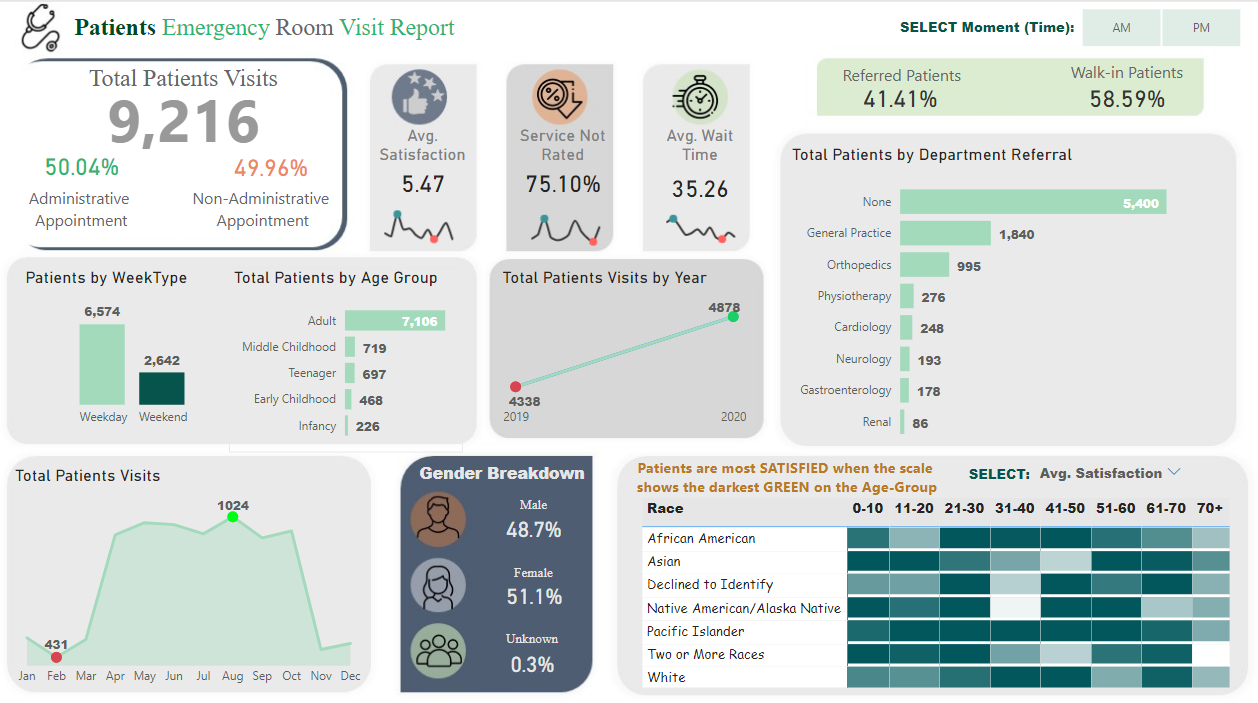

Layout of this report page (visuals, bound fields, positions):
{"tool":"powerbi","page":{"name":"Page 1","canvas":[1280,720],"ordinal":0},"visuals":[{"type":"card","fields":{"Values":["Calculations.Total Patients"]},"box":[37.9,63.7,298.8,103.1],"z":0},{"type":"card","fields":{"Values":["Calculations.% Administrative Schedule"]},"box":[33.4,144.1,101.6,42.5],"z":1000},{"type":"card","fields":{"Values":["Calculations.% None - Administrative Schedule"]},"box":[227.5,144.1,97.1,45.5],"z":2000},{"type":"card","title":"Service Not Rated","fields":{"Values":["Calculations.% that didn't rate us"]},"box":[509.6,124.4,122.8,77.3],"z":3000},{"type":"pivotTable","fields":{"Rows":["Patients Dataset.Race"],"Columns":["Patients Dataset.Age Bucket"],"Values":["Parameter.Selected Measure Value"]},"box":[646.1,495.9,621.8,204.7],"z":4000},{"type":"slicer","fields":{"Values":["Parameter.Parameter"]},"box":[1037.3,450.4,174.4,42.5],"z":5000},{"type":"barChart","fields":{"Category":["Patients Dataset.Age Group"],"Y":["Calculations.Total Patients"]},"box":[233.6,268.4,236.6,186.5],"z":6000},{"type":"areaChart","title":"Total Patients Visits","fields":{"Category":["Date.Month"],"Y":["Calculations.Total Patients","Calculations.Values Max Point (Month)"]},"box":[12.1,468.6,360.9,232],"z":7000},{"type":"slicer","fields":{"Values":["Patients Dataset.Moment"]},"box":[1070.7,0,209.3,51.6],"z":8000},{"type":"lineChart","title":"Total Patients Visits by Year","fields":{"Y":["Calculations.Total Patients","Calculations.Values Max Point (Year)"],"Category":["Date.Year"]},"box":[505,268.4,256.3,169.9],"z":9000},{"type":"clusteredBarChart","fields":{"Y":["Calculations.Total Patients"],"Category":["Patients Dataset.Department Referral"]},"box":[797.7,144.1,430.7,310.9],"z":10000},{"type":"card","fields":{"Values":["Parameter.Selected Measure Description"]},"box":[627.9,443.9,339.7,71.3],"z":11000},{"type":"clusteredColumnChart","title":"Patients  by WeekType","fields":{"Y":["Calculations.Total Patients"],"Category":["Date.WeekType"]},"box":[22.7,268.4,227.5,169.9],"z":12000},{"type":"textbox","box":[0,182,168.3,60.7],"z":13000},{"type":"textbox","box":[183.5,182,168.3,60.7],"z":14000},{"type":"card","title":"Avg. Satisfaction","fields":{"Values":["Calculations.Average Satisfaction Score"]},"box":[373.1,124.4,112.2,77.3],"z":15000},{"type":"card","title":"Avg. Wait Time","fields":{"Values":["Calculations.Average Wait Time"]},"box":[653.6,124.4,112.2,88],"z":16000},{"type":"card","fields":{"Values":["Calculations.% Referred Patients"]},"box":[845.2,75.3,135,42.5],"z":17000},{"type":"card","fields":{"Values":["Calculations.% Un Referred Patients"]},"box":[1071.2,72.3,141,48.5],"z":18000},{"type":"textbox","box":[826.5,57.6,174.4,42.5],"z":19000},{"type":"textbox","box":[1054,54.6,174.4,42.5],"z":20000},{"type":"card","fields":{"Values":["Calculations.% Female Visit"]},"box":[481.8,512.1,118.3,40.9],"z":21000},{"type":"card","fields":{"Values":["Calculations.% Male Visit"]},"box":[482.3,580.3,118.3,39.4],"z":22000},{"type":"card","fields":{"Values":["Calculations.% Unknown Visit"]},"box":[480.8,649.1,118.3,40.9],"z":23000},{"type":"textbox","box":[62.2,57.6,250.2,60.7],"z":24000},{"type":"PBI_CV_25997FEB_F466_44FA_B562_AC4063283C4C","fields":{"measure":["Calculations.Average Satisfaction Score"],"axis":["Date.Month"]},"box":[373.1,197.2,107.7,53.1],"z":25000},{"type":"PBI_CV_25997FEB_F466_44FA_B562_AC4063283C4C","fields":{"axis":["Date.Month"],"measure":["Calculations.% No Rating"]},"box":[521.7,201.7,107.7,51.6],"z":26000},{"type":"PBI_CV_25997FEB_F466_44FA_B562_AC4063283C4C","fields":{"axis":["Date.Month"],"measure":["Calculations.Average Wait Time"]},"box":[658.2,201.7,107.7,48.5],"z":27000},{"type":"textbox","box":[417.1,459.5,185,53.1],"z":28000},{"type":"textbox","box":[493.9,492.4,94,40.9],"z":29000},{"type":"textbox","box":[494.4,561.1,94,40.9],"z":30000},{"type":"textbox","box":[492.9,627.9,94,40.9],"z":31000},{"type":"textbox","box":[960,462.6,104.6,47],"z":32000},{"type":"textbox","box":[37.9,6.1,462.6,39.4],"z":33000},{"type":"textbox","box":[887.2,10.6,226,28.8],"z":34000}]}

Visuals, with their boxes in screenshot pixels (x1, y1, x2, y2), scaled from the page's 1280x720 canvas onto the 1258x703 screenshot:
card - Calculations.Total Patients: BBox(37, 62, 331, 163)
card - Calculations.% Administrative Schedule: BBox(33, 141, 133, 182)
card - Calculations.% None - Administrative Schedule: BBox(224, 141, 319, 185)
"Service Not Rated" card: BBox(501, 121, 622, 197)
pivotTable - Patients Dataset.Race x Patients Dataset.Age Bucket: BBox(635, 484, 1246, 684)
slicer - Parameter.Parameter: BBox(1019, 440, 1191, 481)
barChart - Patients Dataset.Age Group x Calculations.Total Patients: BBox(230, 262, 462, 444)
"Total Patients Visits" areaChart: BBox(12, 458, 367, 684)
slicer - Patients Dataset.Moment: BBox(1052, 0, 1257, 50)
"Total Patients Visits by Year" lineChart: BBox(496, 262, 748, 428)
clusteredBarChart - Calculations.Total Patients x Patients Dataset.Department Referral: BBox(784, 141, 1207, 444)
card - Parameter.Selected Measure Description: BBox(617, 433, 951, 503)
"Patients  by WeekType" clusteredColumnChart: BBox(22, 262, 246, 428)
textbox: BBox(0, 178, 165, 237)
textbox: BBox(180, 178, 346, 237)
"Avg. Satisfaction" card: BBox(367, 121, 477, 197)
"Avg. Wait Time" card: BBox(642, 121, 753, 207)
card - Calculations.% Referred Patients: BBox(831, 74, 963, 115)
card - Calculations.% Un Referred Patients: BBox(1053, 71, 1191, 118)
textbox: BBox(812, 56, 984, 98)
textbox: BBox(1036, 53, 1207, 95)
card - Calculations.% Female Visit: BBox(474, 500, 590, 540)
card - Calculations.% Male Visit: BBox(474, 567, 590, 605)
card - Calculations.% Unknown Visit: BBox(473, 634, 589, 674)
textbox: BBox(61, 56, 307, 116)
PBI_CV_25997FEB_F466_44FA_B562_AC4063283C4C - Calculations.Average Satisfaction Score x Date.Month: BBox(367, 193, 473, 244)
PBI_CV_25997FEB_F466_44FA_B562_AC4063283C4C - Date.Month x Calculations.% No Rating: BBox(513, 197, 619, 247)
PBI_CV_25997FEB_F466_44FA_B562_AC4063283C4C - Date.Month x Calculations.Average Wait Time: BBox(647, 197, 753, 244)
textbox: BBox(410, 449, 592, 500)
textbox: BBox(485, 481, 578, 521)
textbox: BBox(486, 548, 578, 588)
textbox: BBox(484, 613, 577, 653)
textbox: BBox(944, 452, 1046, 498)
textbox: BBox(37, 6, 492, 44)
textbox: BBox(872, 10, 1094, 38)
